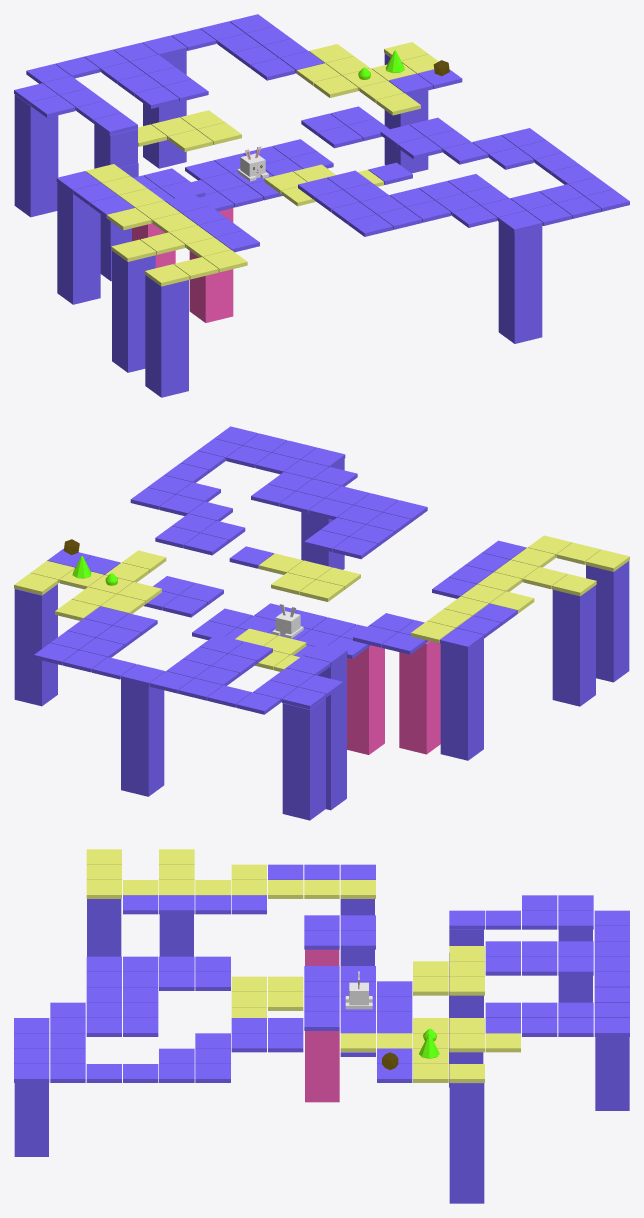
The picture shows the model from 3 angles, top to bottom: view 1: azimuth 30°, elevation 25°; view 2: azimuth 150°, elevation 25°; view 3: azimuth 270°, elevation 25°; orthographic projection. The views are drawn at different scales.
Parts seen in each view (by area): view 1: pillar_6, pillar_1, pillar_11, pillar_4, pillar, pillar_5, pillar_10, pillar_3, pillar_9, pillar_12, pillar_2, PURPLE_1_0_1_2 (+58 smaller); view 2: pillar_11, pillar_4, pillar, pillar_10, pillar_9, pillar_2, pillar_1, pillar_5, pillar_3, pillar_6, pillar_12, PURPLE_6 (+60 smaller); view 3: pillar_9, pillar_6, pillar_10, pillar_5, pillar_1, pillar, pillar_11, pillar_12, pillar_4, PURPLE_3, PURPLE_5, PURPLE_1_3_3 (+109 smaller).
Part boxes in pixels (x1,y1,x2,y2): pillar_6: (498, 222, 542, 343); pillar_1: (145, 275, 188, 397); pillar_11: (14, 94, 58, 217); pillar_4: (57, 182, 100, 304); pillar: (112, 251, 155, 372); pillar_5: (189, 208, 233, 322); pillar_10: (143, 51, 186, 168); pillar_3: (94, 124, 137, 246); pillar_9: (384, 53, 428, 173); pillar_12: (100, 163, 138, 281); pillar_2: (132, 223, 175, 267); PURPLE_1_0_1_2: (397, 137, 442, 159); pillar_11: (282, 698, 325, 820); pillar_4: (440, 639, 483, 760); pillar: (552, 585, 595, 706); pillar_10: (121, 680, 164, 796); pillar_9: (14, 584, 57, 706); pillar_2: (399, 641, 440, 754); pillar_1: (586, 561, 629, 682); pillar_5: (347, 645, 384, 754); pillar_3: (318, 654, 346, 776); pillar_6: (301, 459, 344, 569); pillar_12: (326, 765, 346, 810); PURPLE_6: (439, 628, 484, 650); pillar_9: (449, 1083, 484, 1203); pillar_6: (14, 1083, 48, 1156); pillar_10: (595, 1037, 629, 1110); pillar_5: (305, 1031, 339, 1102); pillar_1: (87, 899, 121, 956); pillar: (159, 914, 193, 956); pillar_11: (558, 929, 592, 1002); pillar_12: (449, 953, 483, 1087); pillar_4: (340, 899, 374, 965); PURPLE_3: (159, 895, 194, 914); PURPLE_5: (195, 895, 230, 914); PURPLE_1_3_3: (449, 1033, 484, 1052).
Bounding box in the file's own units: 1228 × 459 × 1392.
